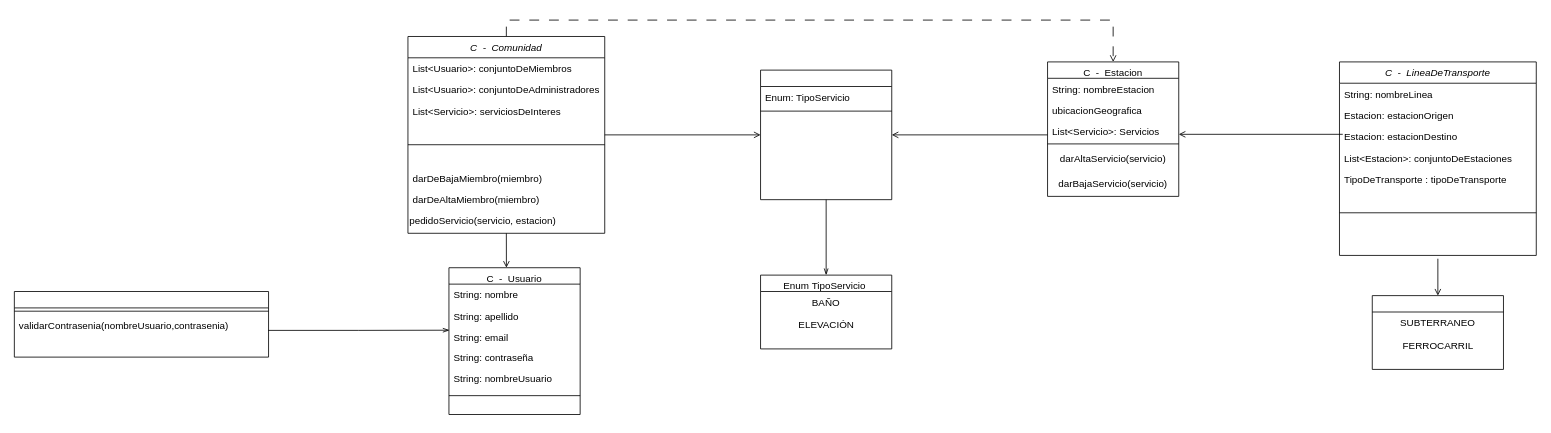
This 1551x433 diagram has some shape labels left out. The shapes that lost their labels are listed below. From the top down, each one's box as (x1, y1, x2, y2) in pixels, then its label:
(760, 69, 892, 200): C - Servicio
(14, 291, 269, 357): C - SistemaDeRegistroDeUsuario
(1371, 295, 1503, 369): Enum TipoDeTransporte
